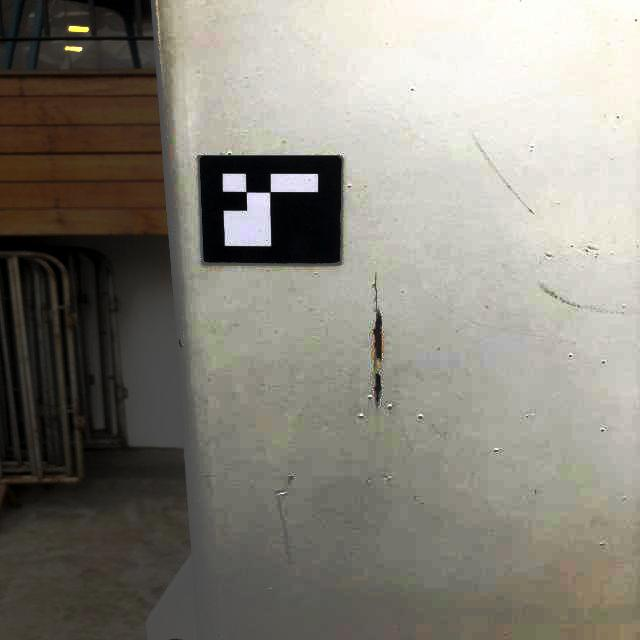Corrosion: (0, 475, 82, 512), (373, 307, 383, 361), (67, 308, 76, 335), (374, 372, 381, 403), (75, 425, 83, 432), (178, 339, 182, 348), (289, 476, 295, 480)
